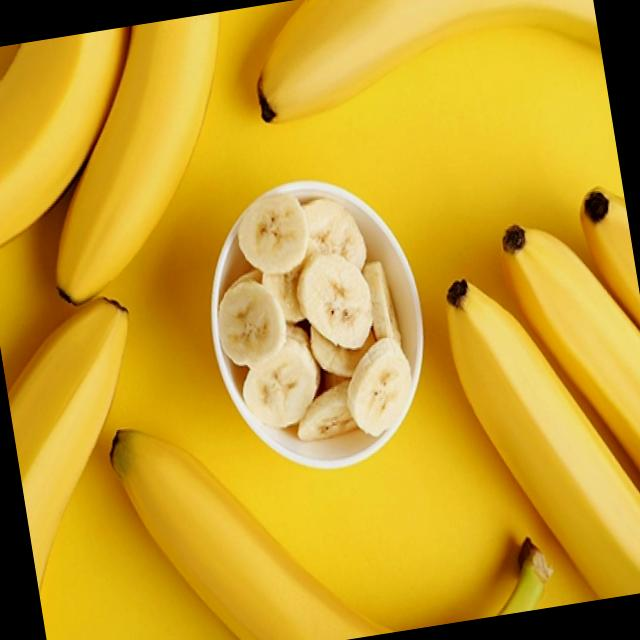chuoi: (0, 14, 220, 587), (448, 189, 640, 599), (111, 431, 386, 640), (219, 195, 412, 441), (253, 0, 600, 121)
